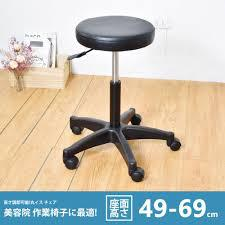chair: (48, 16, 180, 183)
